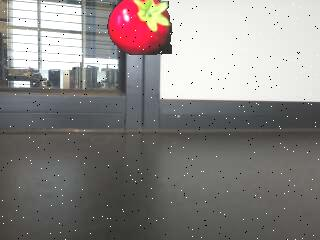Tomato: (108, 0, 172, 56)
